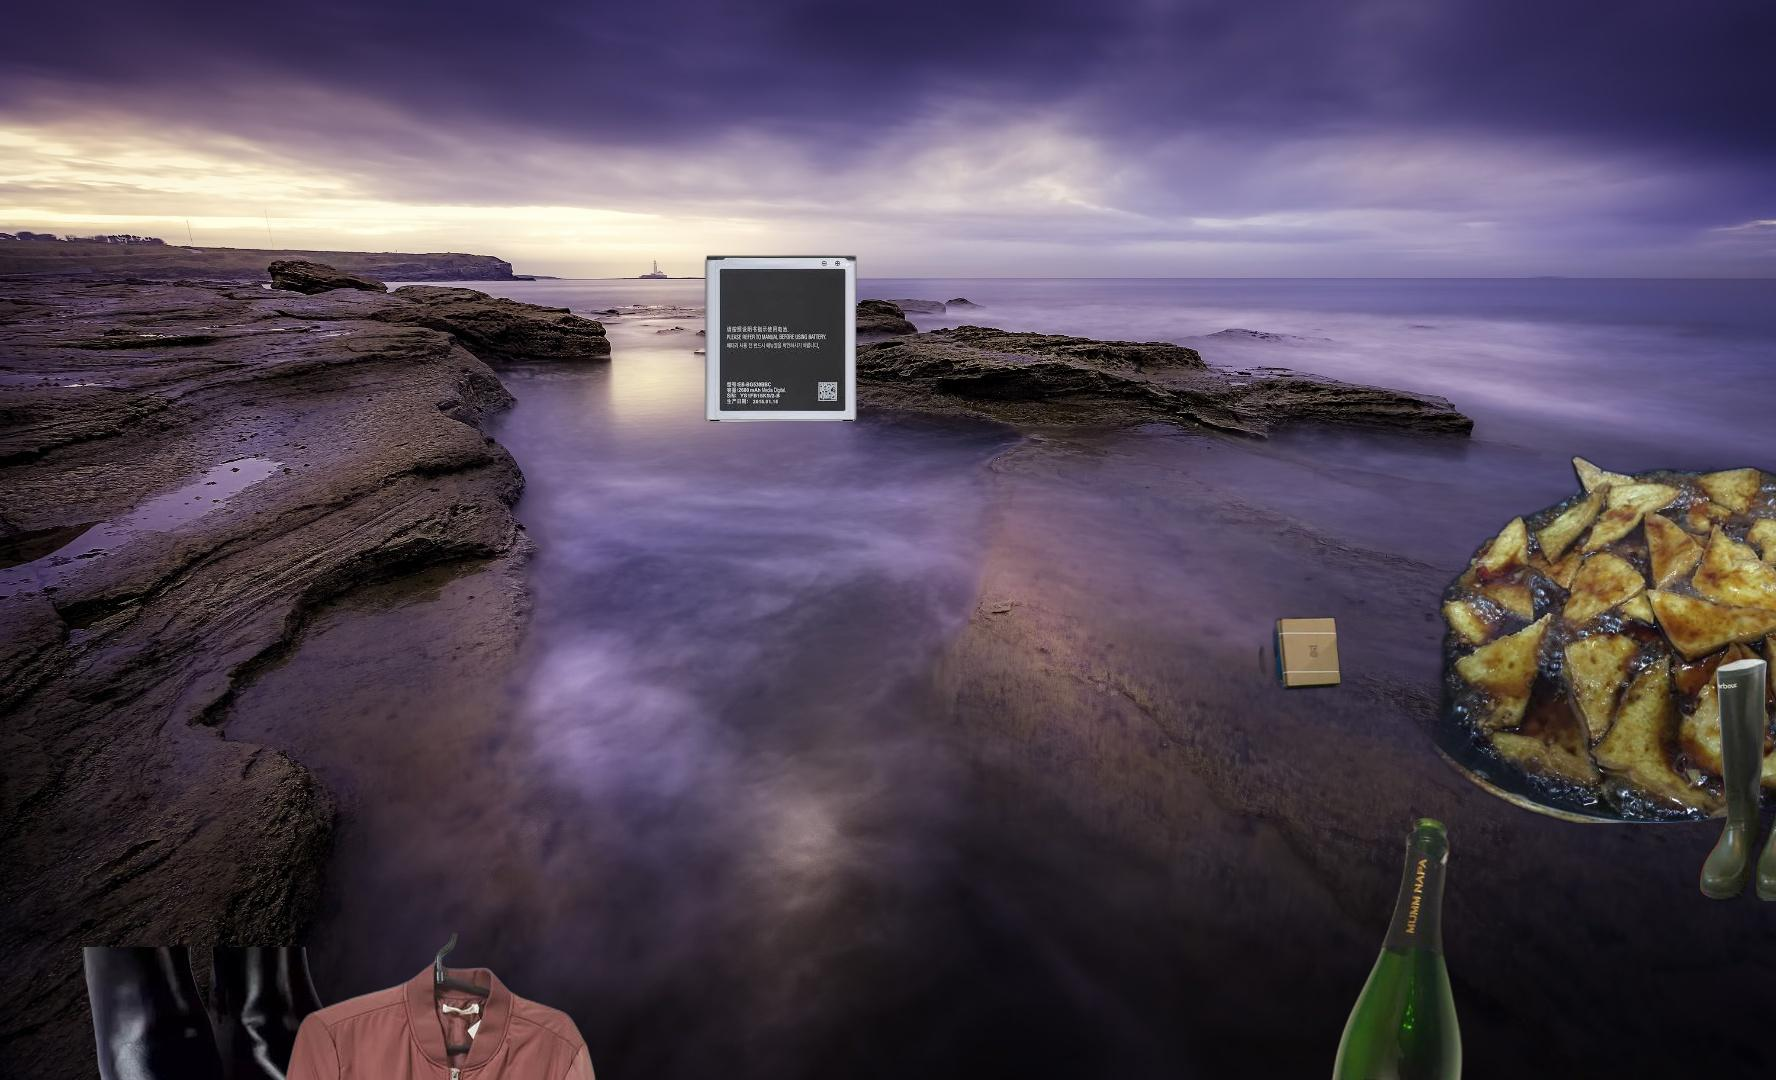battery: (680, 253, 860, 426)
biological: (1404, 454, 1776, 822)
clothes: (252, 933, 628, 1080)
glass: (1312, 815, 1466, 1080)
shoes: (61, 947, 348, 1080), (1697, 656, 1776, 901)
trashbox-cardboard: (1256, 580, 1343, 693)
